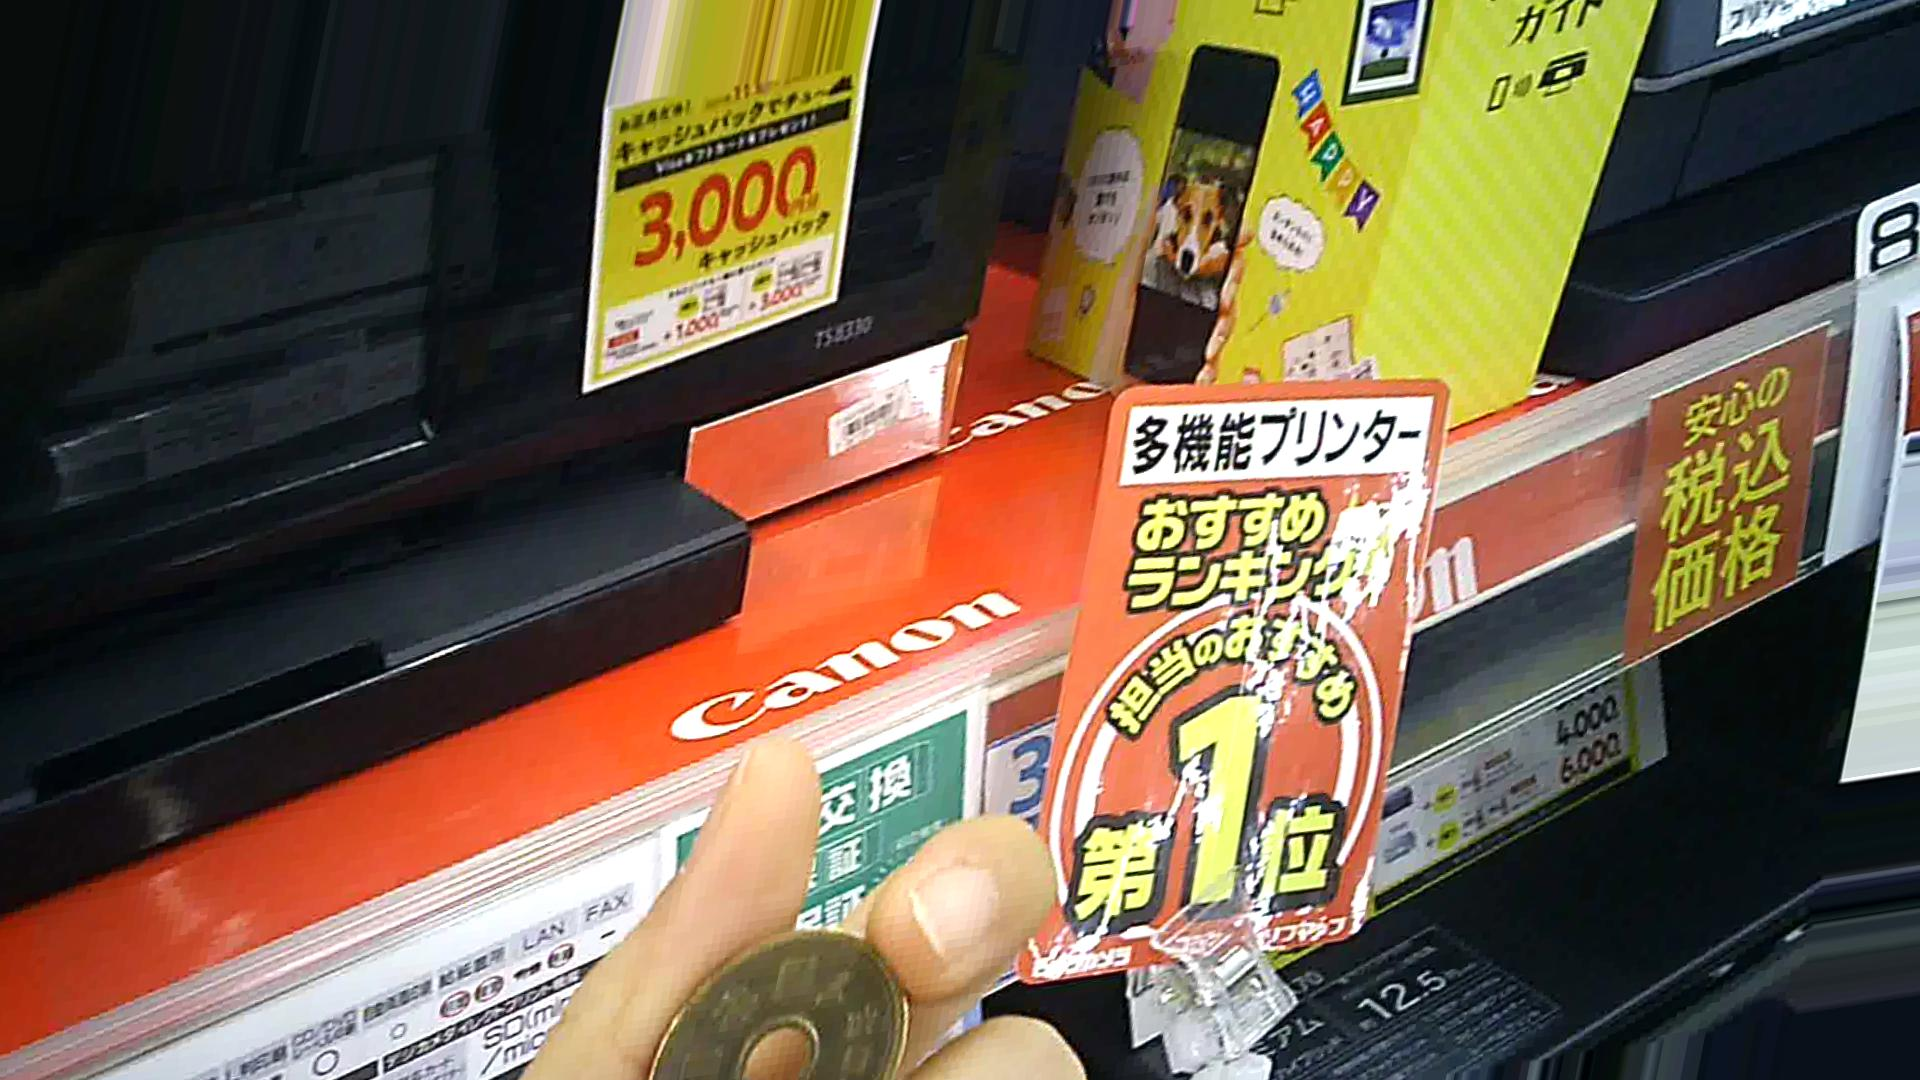5 Yen: (641, 920, 913, 1079)
